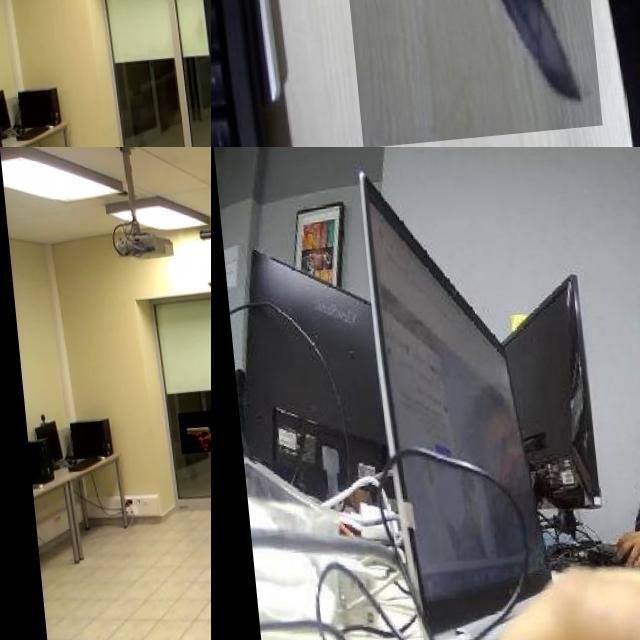-: (316, 0, 591, 147)
gun-knife-thesis - v11 Yolov5 augmented: (171, 413, 210, 458)
